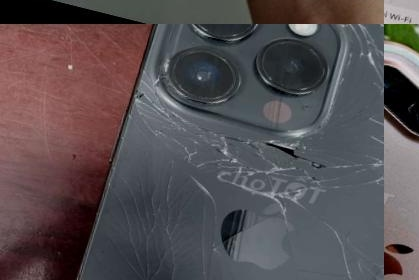physical_damage: (219, 169, 375, 280), (112, 77, 247, 173), (88, 189, 217, 269), (239, 116, 359, 201), (106, 146, 231, 215), (55, 238, 165, 280), (347, 107, 384, 222), (143, 250, 266, 280), (333, 48, 384, 120), (301, 24, 384, 66), (354, 212, 384, 280)
scratch: (384, 52, 419, 186)
